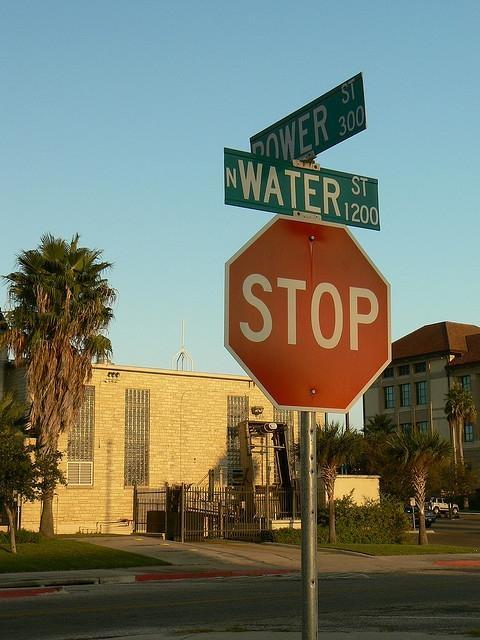car: (406, 507, 436, 528), (427, 497, 460, 514)
